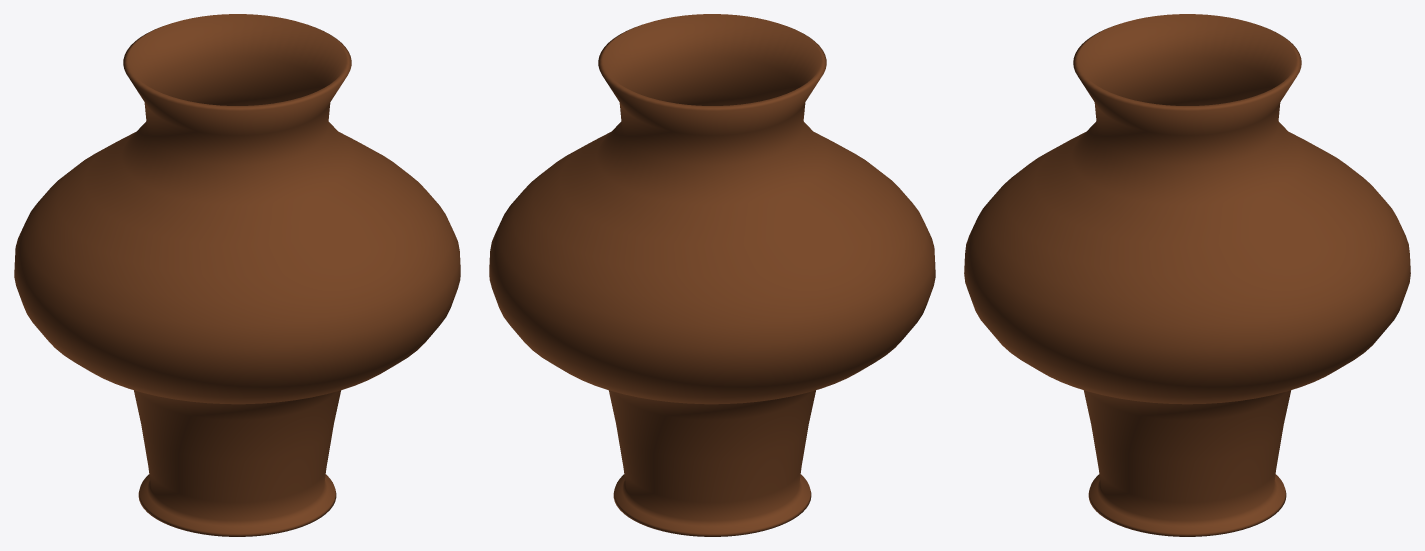
File: BigVase.fbx
3 views of the same model, side by side, from view 1: azimuth 30°, elevation 25°; view 2: azimuth 150°, elevation 25°; view 3: azimuth 270°, elevation 25° (orthographic).
Visible parts, largest first — view 1: Sphere; view 2: Sphere; view 3: Sphere.
Boxes of the visible parts, left/top/right/bottom form: Sphere: left=14, top=14, right=460, bottom=536; Sphere: left=489, top=14, right=935, bottom=536; Sphere: left=964, top=14, right=1410, bottom=536.
Bounding box in the file's own units: 335 × 361 × 335.
